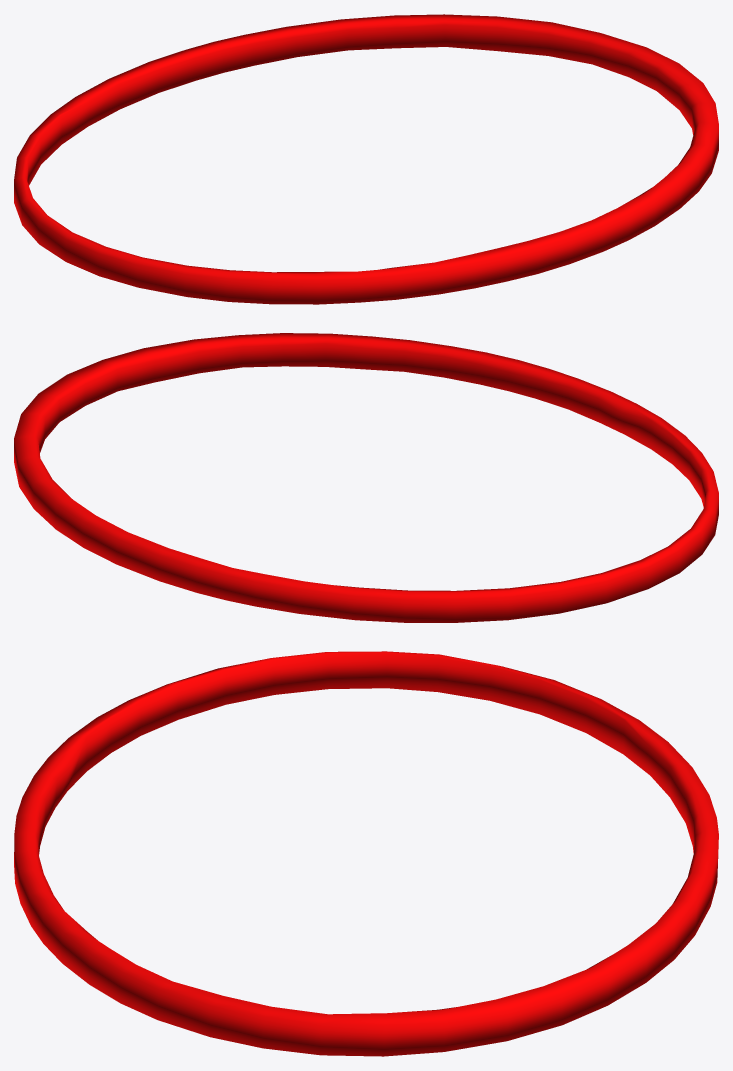
The model's file is LowPoly_contourSallePrincipale.fbx.
3 views of the same model, one above another, from view 1: azimuth 30°, elevation 25°; view 2: azimuth 150°, elevation 25°; view 3: azimuth 270°, elevation 25° (orthographic). The views are drawn at different scales.
Parts seen in each view (by area): view 1: LowPoly_Contour; view 2: LowPoly_Contour; view 3: LowPoly_Contour.
Part boxes in pixels (x1,y1,x2,y2): LowPoly_Contour: [14, 14, 718, 304]; LowPoly_Contour: [14, 333, 718, 622]; LowPoly_Contour: [14, 651, 718, 1056].
Size of the model in its own units: 8040 by 350 by 6370.
